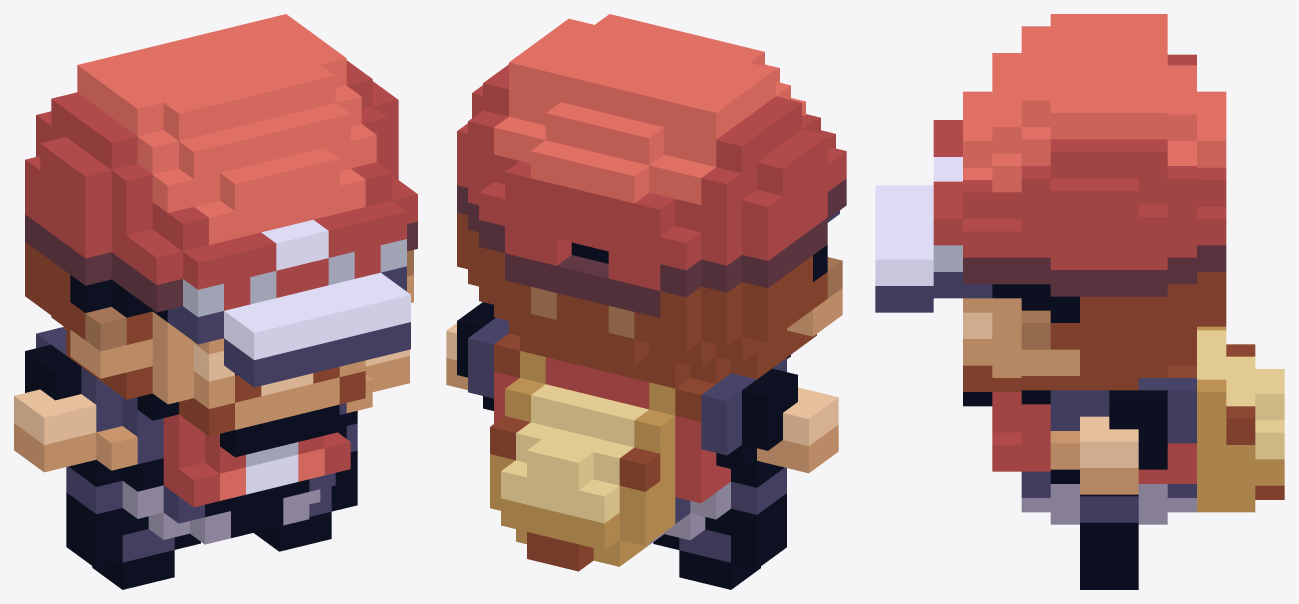
File: trainer_red.glb
3 views of the same model, side by side, from view 1: azimuth 30°, elevation 25°; view 2: azimuth 150°, elevation 25°; view 3: azimuth 270°, elevation 25° (orthographic). The views are drawn at different scales.
Parts seen in each view (by area): view 1: Object_2; view 2: Object_2; view 3: Object_2.
Boxes of the visible parts, x1,y1,x2,y2 form: Object_2: (14, 14, 417, 589); Object_2: (446, 14, 846, 589); Object_2: (875, 14, 1284, 589).
Bounding box in the file's own units: 1.4 × 1.8 × 1.4.
1 material, 1 textured.
